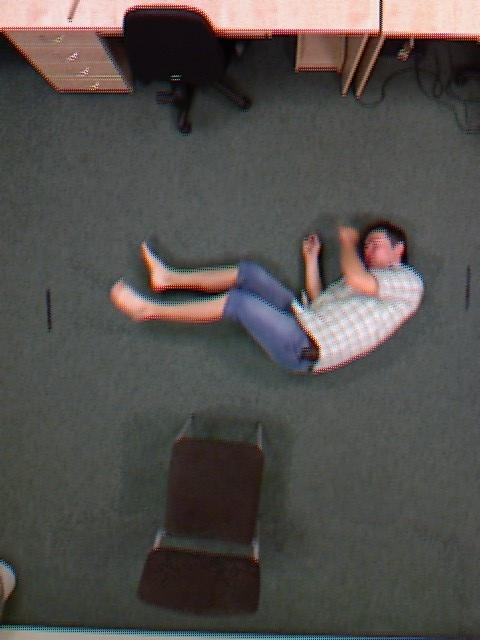fall: (201, 80, 333, 509)
